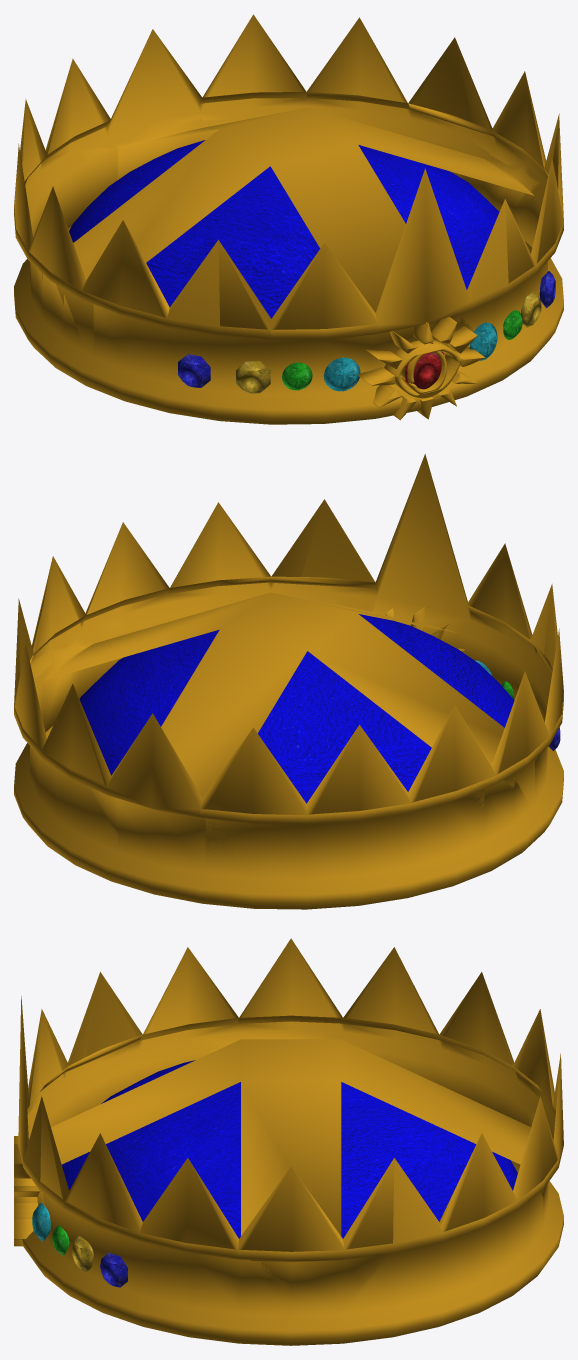
The picture shows the model from 3 angles, top to bottom: view 1: azimuth 30°, elevation 25°; view 2: azimuth 150°, elevation 25°; view 3: azimuth 270°, elevation 25°; orthographic projection.
Visible parts, largest first — view 1: Diamond.001; view 2: Diamond.001; view 3: Diamond.001.
Part boxes in pixels (box(x1,y1,x2,y2)): Diamond.001: box(14, 14, 563, 424); Diamond.001: box(14, 454, 563, 909); Diamond.001: box(14, 938, 563, 1345).
Bounding box in the file's own units: 2.05 × 1.02 × 2.06.
Materials: 7 (6 with a texture image).
